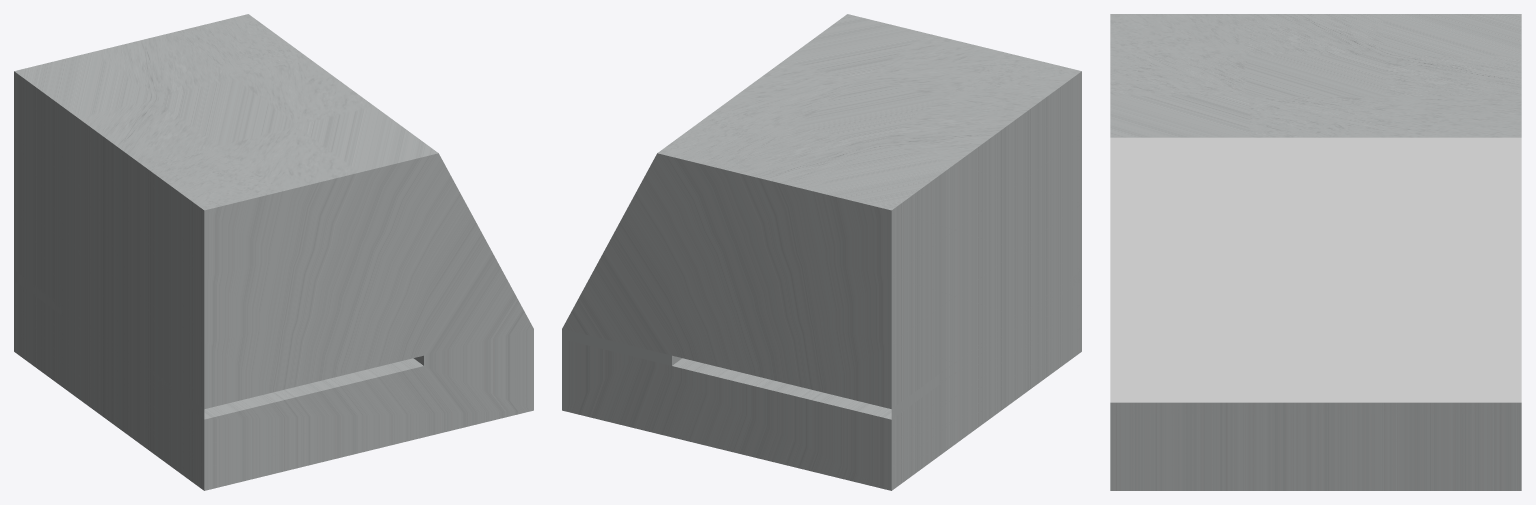
Rendered from room1.fbx.
3 renders of one model, left to right at view 1: azimuth 30°, elevation 25°; view 2: azimuth 150°, elevation 25°; view 3: azimuth 270°, elevation 25°, orthographic. The views are drawn at different scales.
Visible parts, largest first — view 1: Plane.001, Plane; view 2: Plane.001, Plane; view 3: Plane.002, Plane.001, Plane.
Part boxes in pixels (left/top/right/bottom): Plane.001: left=14, top=14, right=533, bottom=490; Plane: left=14, top=270, right=533, bottom=419; Plane.001: left=562, top=14, right=1081, bottom=490; Plane: left=562, top=270, right=1081, bottom=419; Plane.002: left=1110, top=137, right=1521, bottom=402; Plane.001: left=1110, top=14, right=1521, bottom=490; Plane: left=1110, top=402, right=1521, bottom=413.
Size of the model in its own units: 300 by 244 by 300.
Materials: 2 (2 with a texture image).
